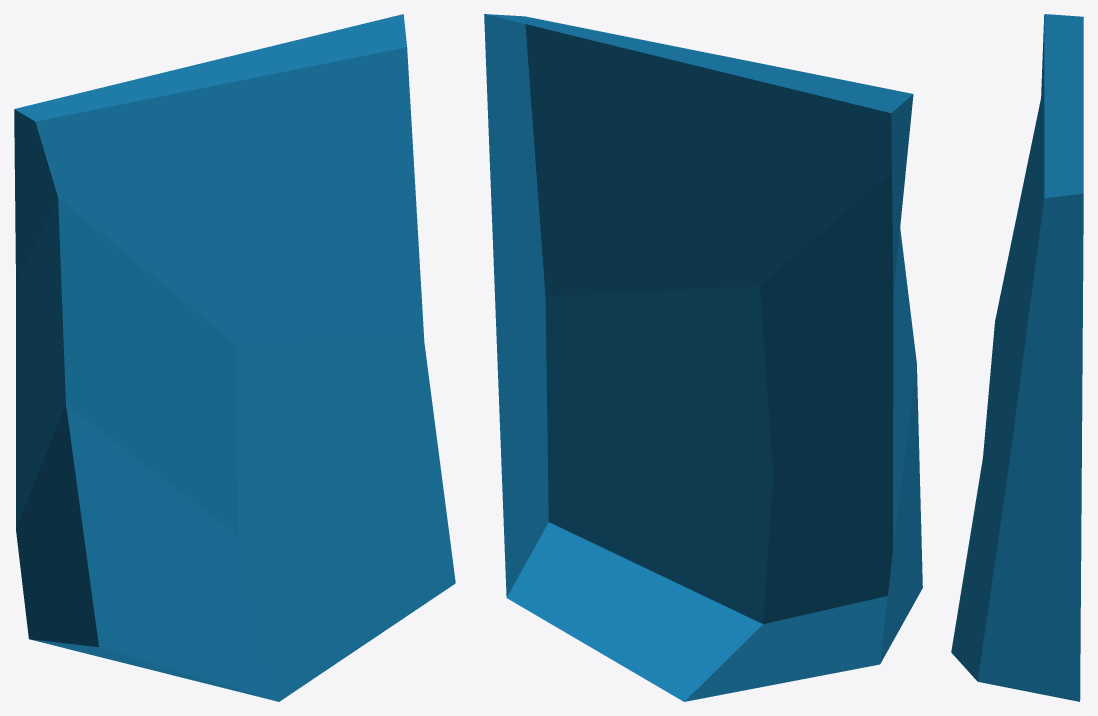
File: Teja2.fbx
3 renders of one model, left to right at view 1: azimuth 30°, elevation 25°; view 2: azimuth 150°, elevation 25°; view 3: azimuth 270°, elevation 25°, orthographic. The views are drawn at different scales.
Parts seen in each view (by area): view 1: Teja2_LOD0; view 2: Teja2_LOD0; view 3: Teja2_LOD0.
Boxes of the visible parts, x1=… form: Teja2_LOD0: x1=14, y1=14, x2=455, y2=701; Teja2_LOD0: x1=484, y1=14, x2=922, y2=701; Teja2_LOD0: x1=951, y1=14, x2=1083, y2=701.
Size of what is drawn, in the model's own units: 18.73 by 89.46 by 59.16.
